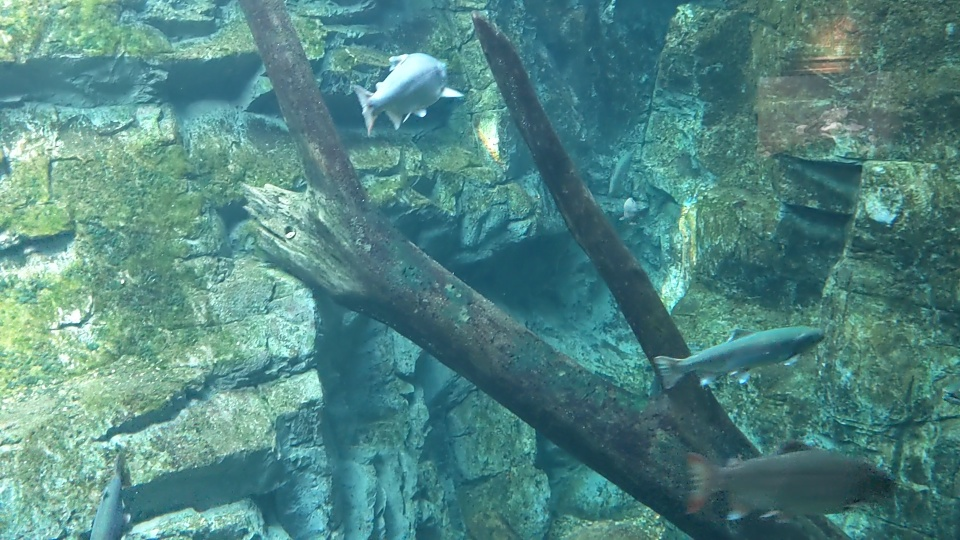Fish: (684, 439, 897, 531), (651, 322, 822, 399), (353, 48, 466, 132), (88, 451, 142, 540), (607, 142, 631, 199), (621, 197, 643, 226)
